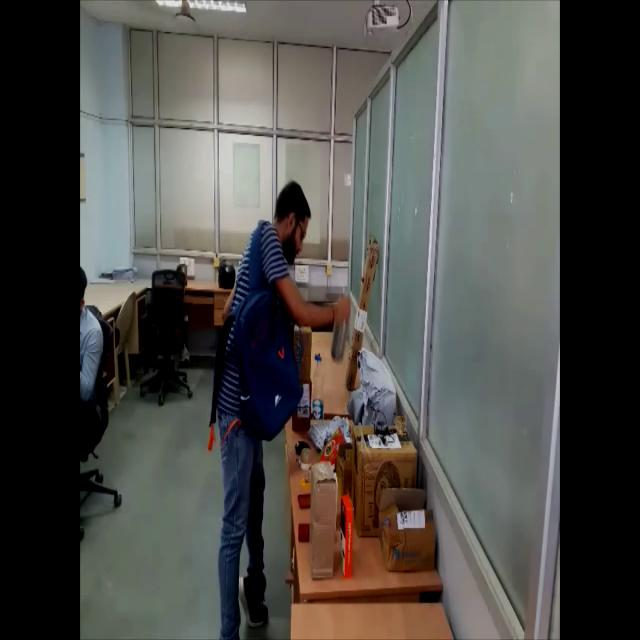normal: (208, 155, 351, 640)
